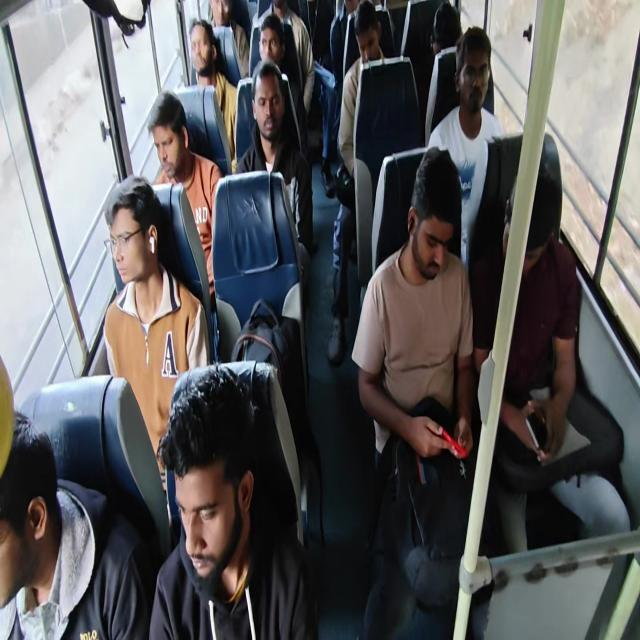person: (146, 340, 292, 586), (0, 403, 69, 640), (397, 152, 501, 282), (84, 191, 161, 325), (520, 134, 575, 286), (160, 98, 218, 220), (445, 36, 511, 130), (240, 87, 293, 178), (433, 11, 478, 85), (354, 0, 394, 67), (193, 28, 227, 103), (258, 18, 290, 92), (204, 0, 233, 62), (267, 0, 302, 29), (342, 0, 368, 30)
